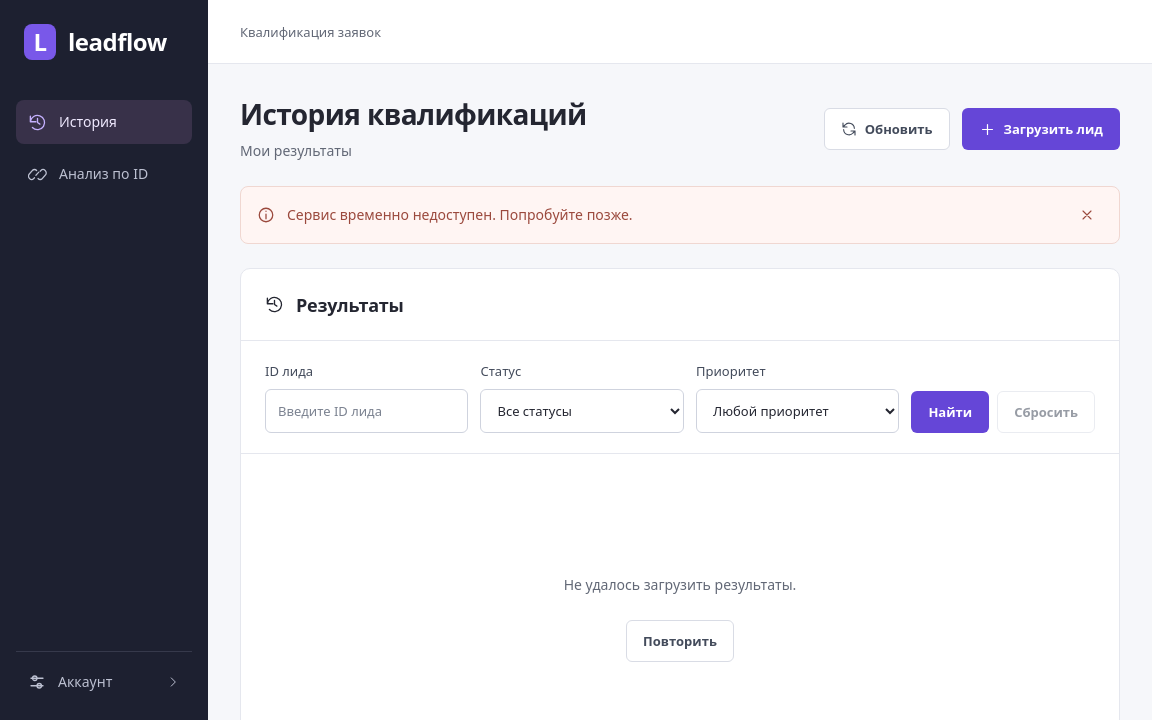
qualification interface › offers retry when history loading fails instead of showing an empty history
Expected: the text "Не удалось загрузить результаты." is shown, [564,574,796,596]
Click the button "Повторить": (680, 641) [626,620,734,662]
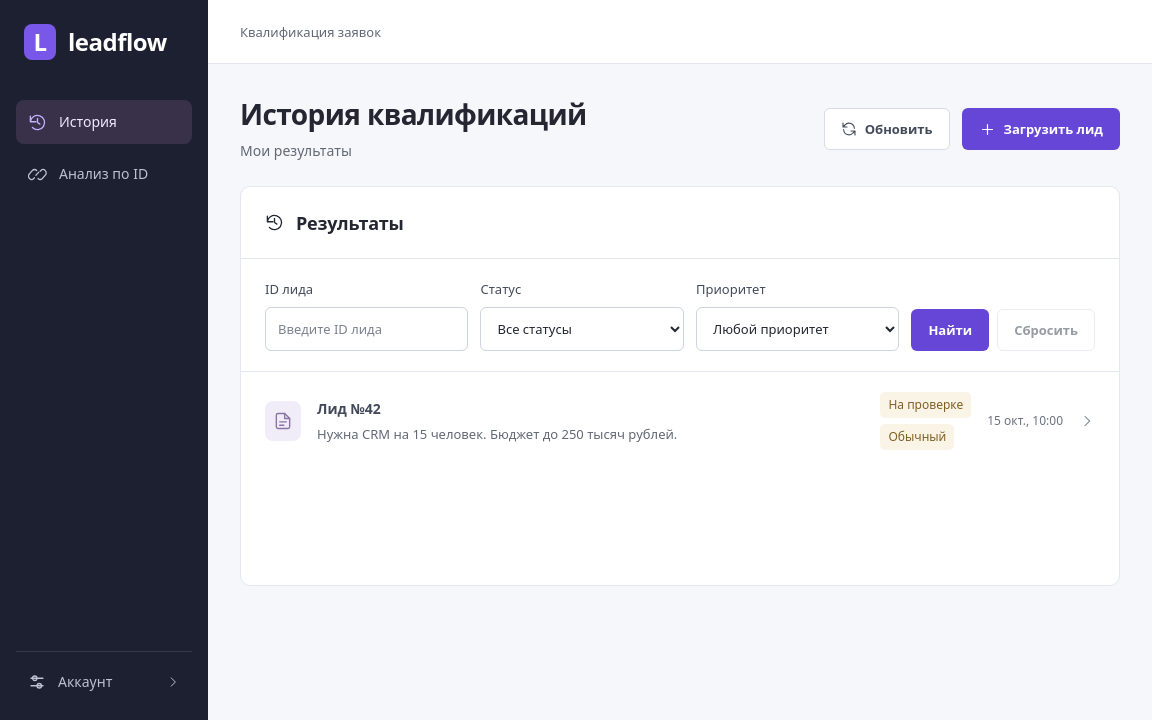
Now the button that starts with "Лид №42" is shown, box [241,372,1119,470]
